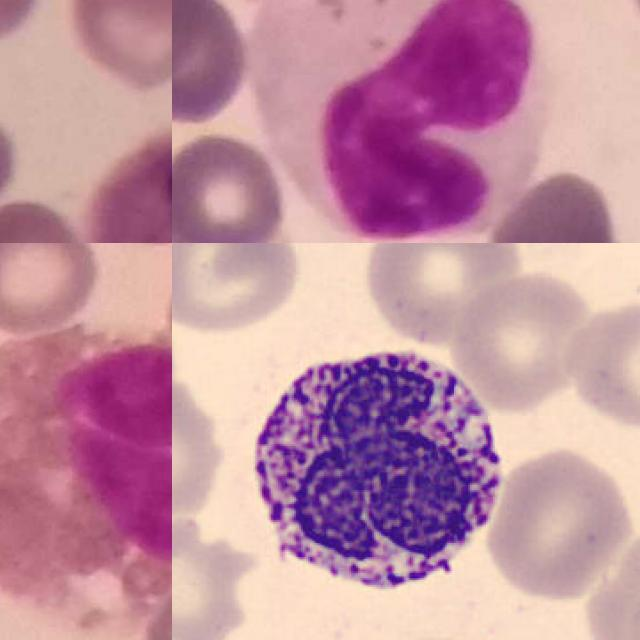Basophil: (241, 331, 515, 619)
Eosinophil: (0, 328, 172, 612)
Monocyte: (252, 0, 534, 241)
Neutrophil: (84, 124, 172, 243)
RBC: (483, 442, 634, 603), (445, 266, 603, 411), (356, 243, 528, 351), (172, 243, 304, 336), (172, 507, 263, 640), (560, 292, 640, 433), (172, 372, 226, 520), (584, 514, 640, 640)
